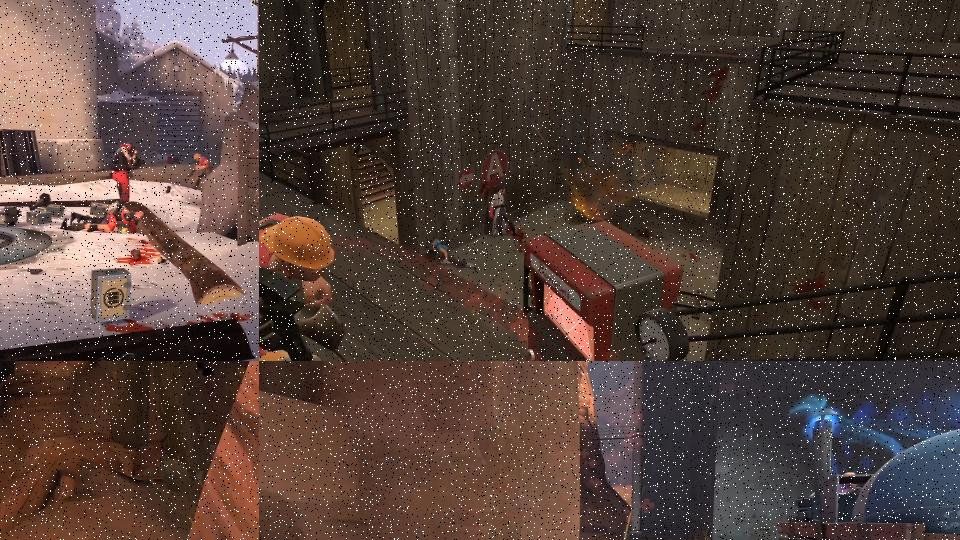Enemy: (259, 210, 345, 361), (110, 141, 147, 201), (426, 238, 478, 270), (489, 188, 519, 237), (187, 153, 212, 191)
